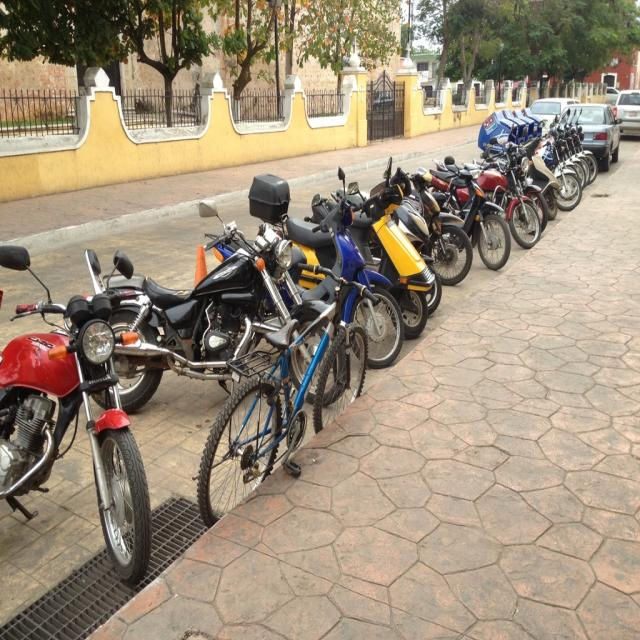other: (552, 99, 620, 172), (524, 95, 578, 137), (615, 86, 639, 138)
